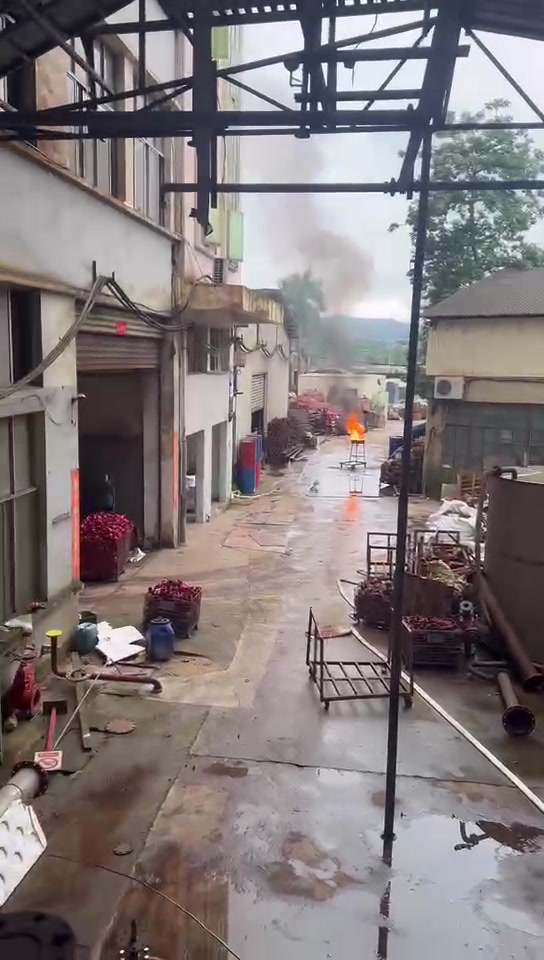fire: (345, 414, 365, 439)
